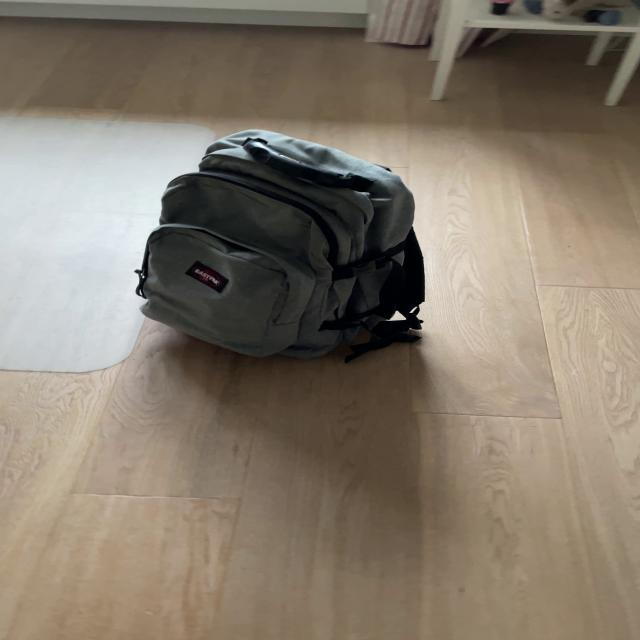backpack: (123, 120, 435, 366)
